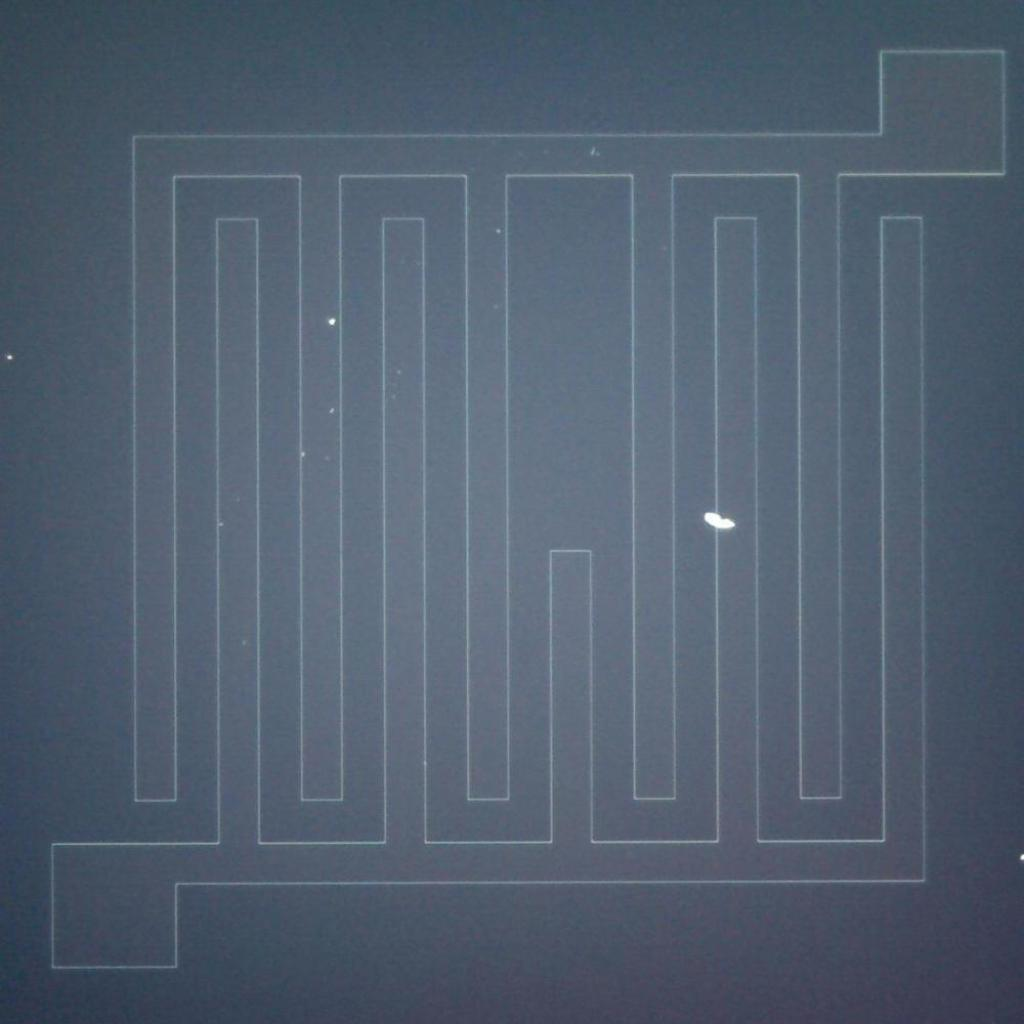cut circuit: (530, 166, 616, 869)
dot: (314, 305, 349, 338), (0, 341, 25, 372)
spot: (699, 504, 740, 542)
